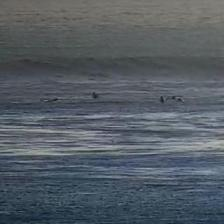surfer: (177, 98, 187, 104), (92, 92, 99, 100), (50, 97, 60, 102), (159, 96, 165, 103), (170, 96, 176, 100)
